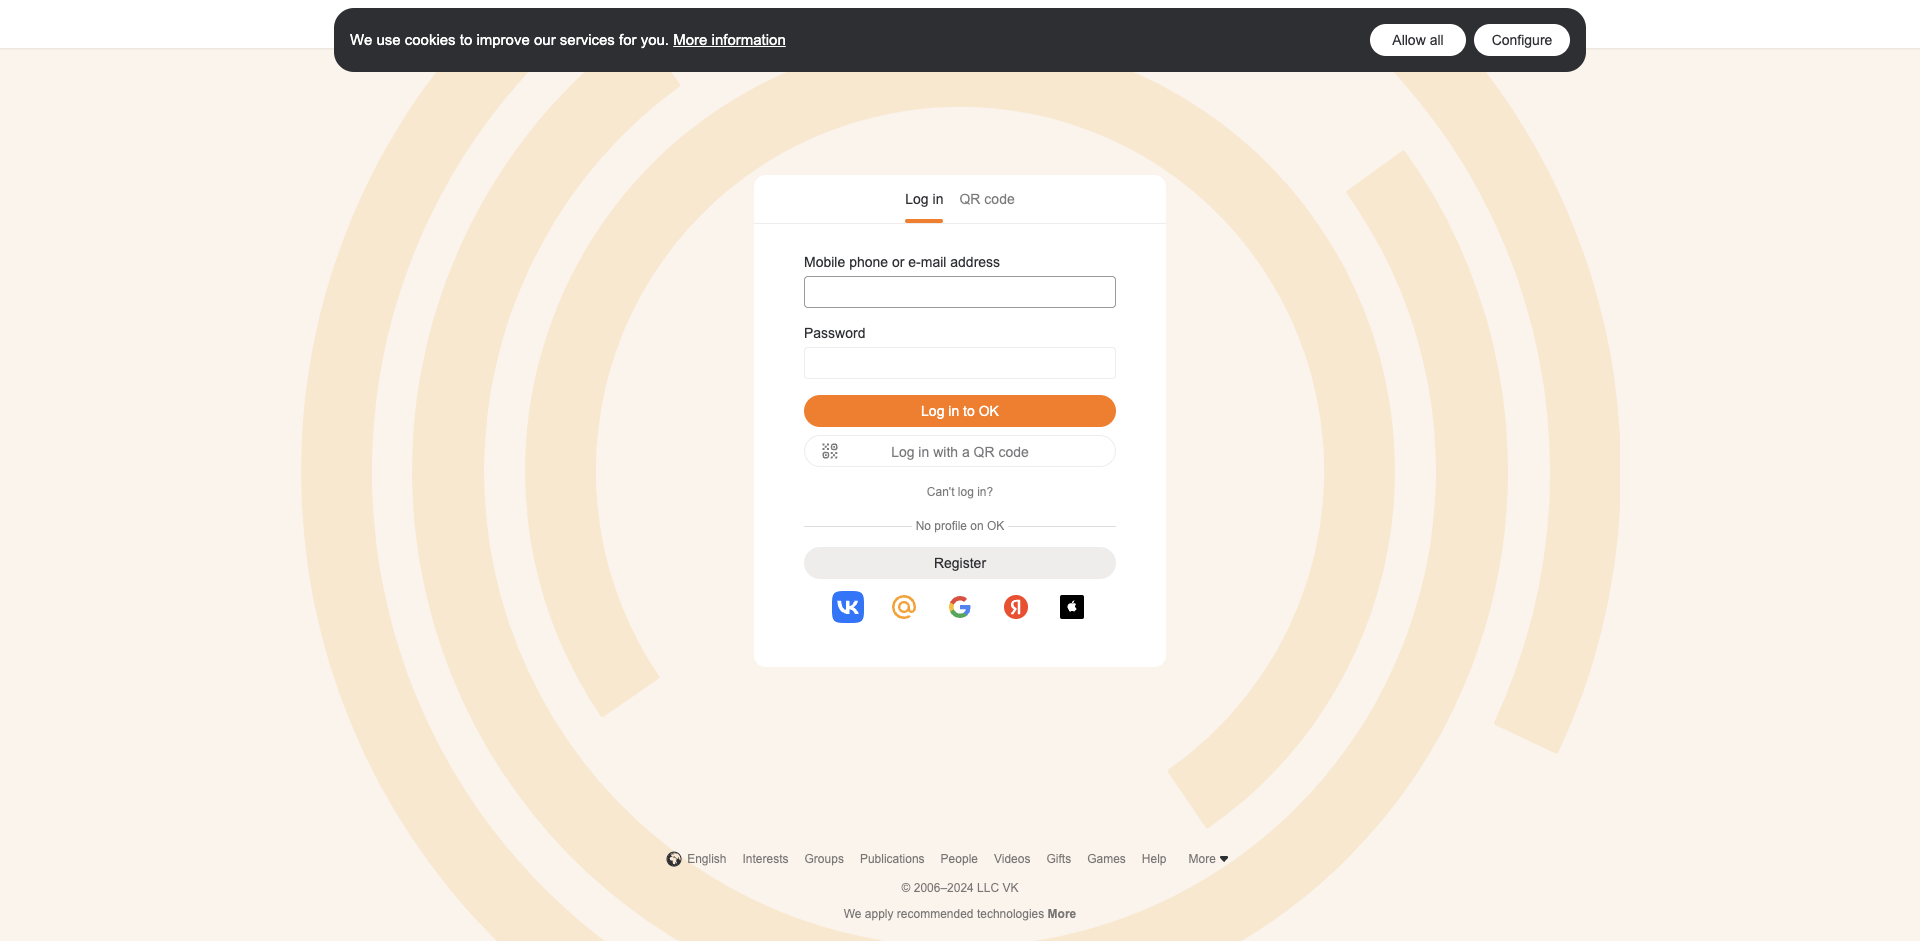button: (804, 395, 1116, 426), (804, 435, 1116, 467), (804, 546, 1116, 578), (1393, 0, 1458, 48), (1370, 25, 1466, 56), (1474, 25, 1570, 56), (891, 444, 1029, 459), (1183, 849, 1238, 869), (831, 591, 864, 622), (1056, 591, 1089, 622), (666, 850, 726, 867), (1130, 9, 1162, 40), (888, 591, 920, 622), (944, 591, 976, 622), (1000, 591, 1032, 622), (1189, 850, 1232, 867), (1272, 64, 1296, 88)
input: (754, 9, 1166, 40), (804, 276, 1116, 308), (804, 347, 1116, 379)
label: (754, 9, 1166, 40), (804, 254, 1000, 270), (804, 325, 866, 341)
link: (1101, 796, 1253, 837), (1101, 657, 1253, 685), (1101, 685, 1253, 713), (1101, 713, 1253, 741), (1101, 741, 1253, 769), (1101, 769, 1253, 796), (844, 907, 1076, 921), (462, 0, 531, 48), (960, 174, 1015, 223), (673, 31, 786, 48), (905, 174, 943, 223), (927, 484, 993, 499), (860, 852, 924, 866), (666, 852, 726, 866), (742, 852, 789, 866), (804, 852, 844, 866), (940, 852, 978, 866), (1087, 852, 1125, 866), (994, 852, 1031, 866), (1141, 852, 1167, 866), (1047, 852, 1071, 866), (0, 0, 1, 1)
